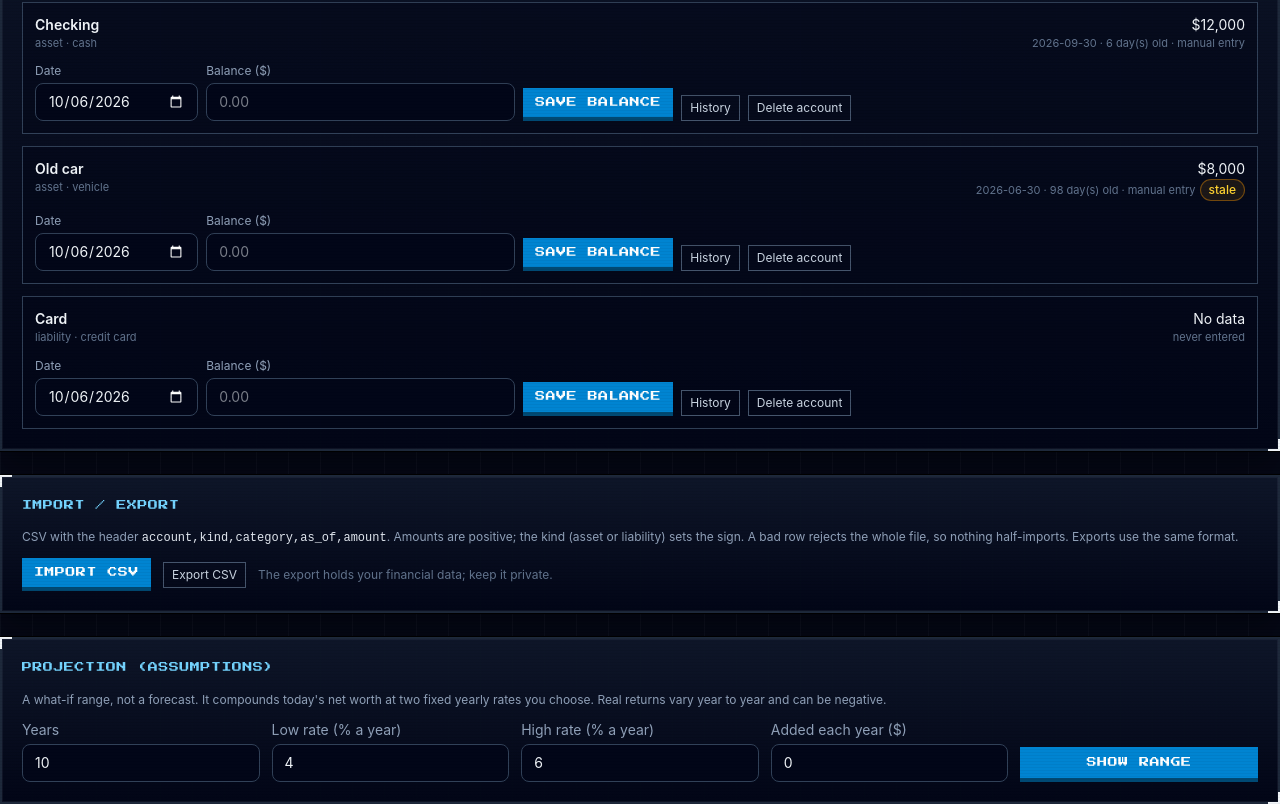
NetWorthPage › shows the backend refusal for a negative net worth
(page scrolled)
Click the button "Show range": (1139, 764) [1020,747,1258,782]
(page scrolled)
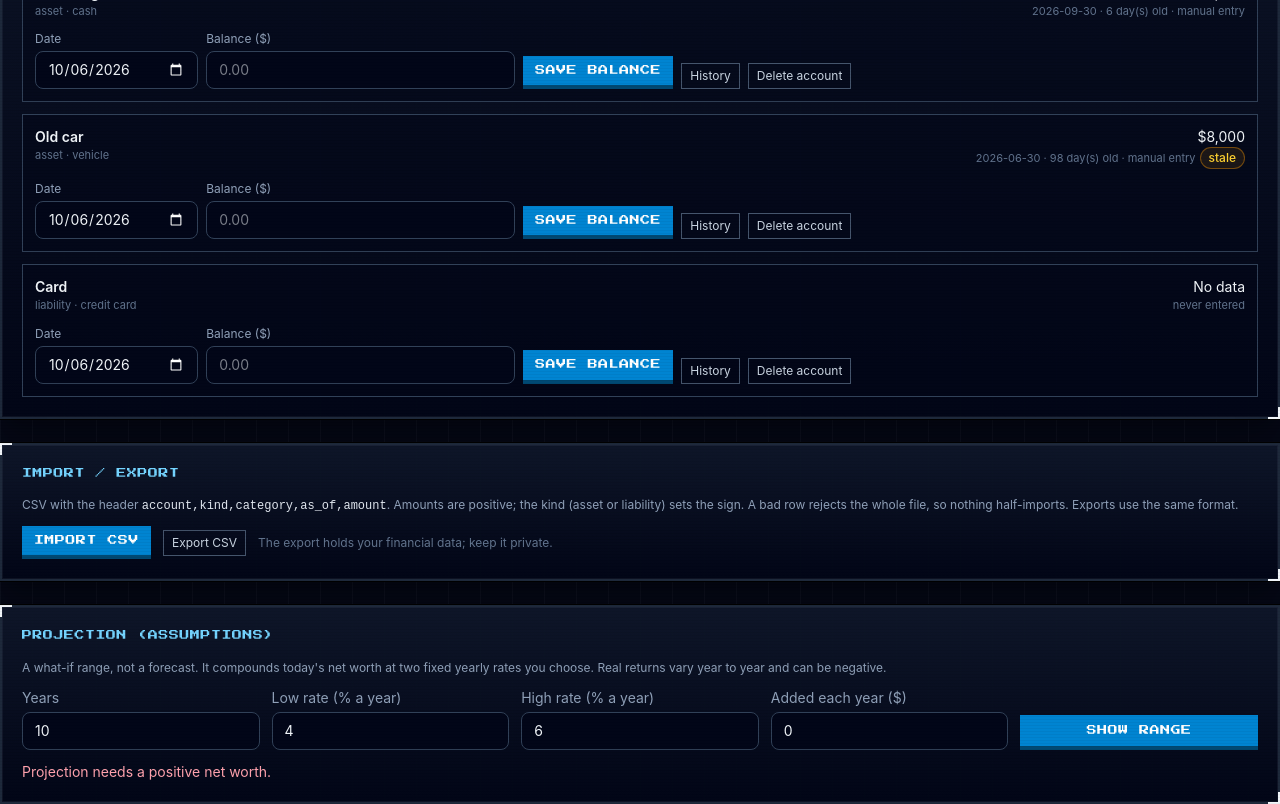
Check: the text "Projection needs a positive net worth." is shown, box [22,763,271,780]
